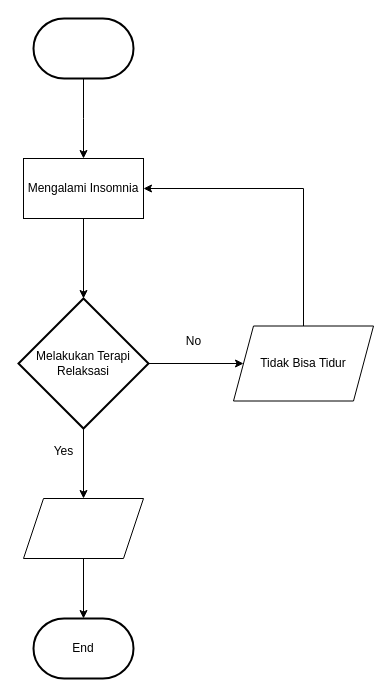
This 391x696 diagram has some shape labels left out. Each missing label, with the box of its shape:
START: (32, 17, 134, 79)
Tidur Nyenyak: (22, 498, 144, 558)
